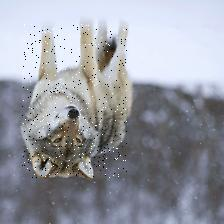WOLF: (22, 23, 127, 177)
